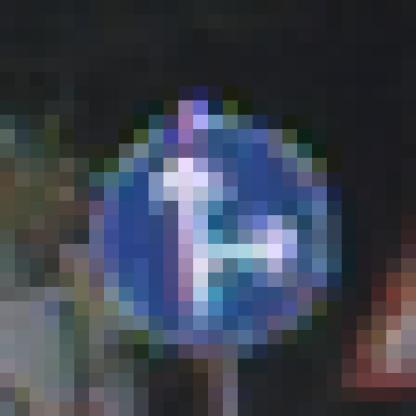Straight or Right: (75, 87, 343, 345)
